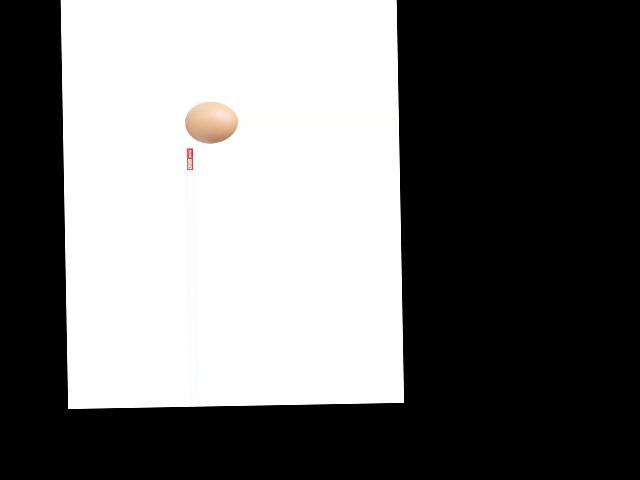egg: (184, 100, 237, 143)
